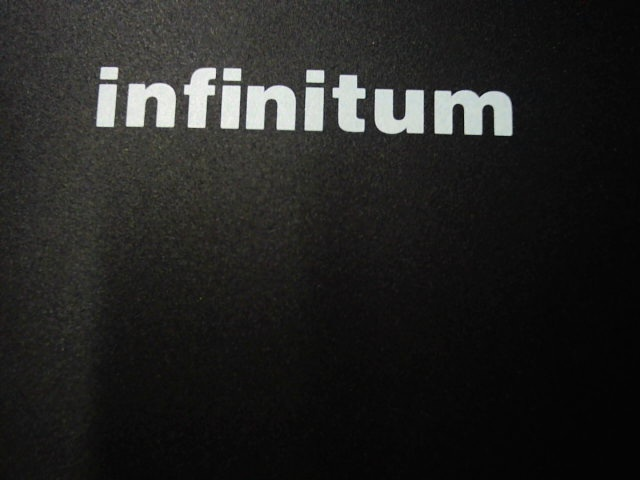BK_infinitum: (79, 51, 518, 152)
